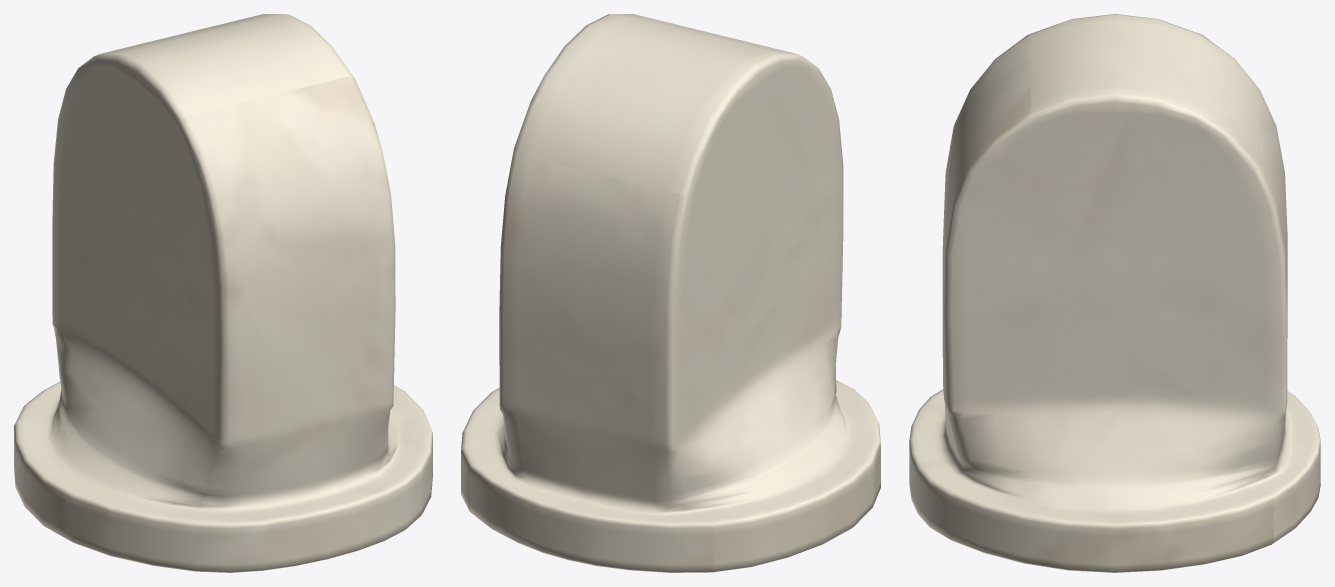
Rendered from PART7 (SUBDIVISION).glb.
3 views of the same model, side by side, from view 1: azimuth 30°, elevation 25°; view 2: azimuth 150°, elevation 25°; view 3: azimuth 270°, elevation 25° (orthographic).
Visible parts, largest first — view 1: CANADARM HD.007; view 2: CANADARM HD.007; view 3: CANADARM HD.007.
Boxes of the visible parts, box(x1,y1,x2,y2) form: CANADARM HD.007: box(14, 14, 432, 572); CANADARM HD.007: box(461, 14, 880, 572); CANADARM HD.007: box(909, 14, 1320, 572).
Size of the model in its own units: 0.1513 by 0.1754 by 0.1507.
Materials: 1 (1 with a texture image).
